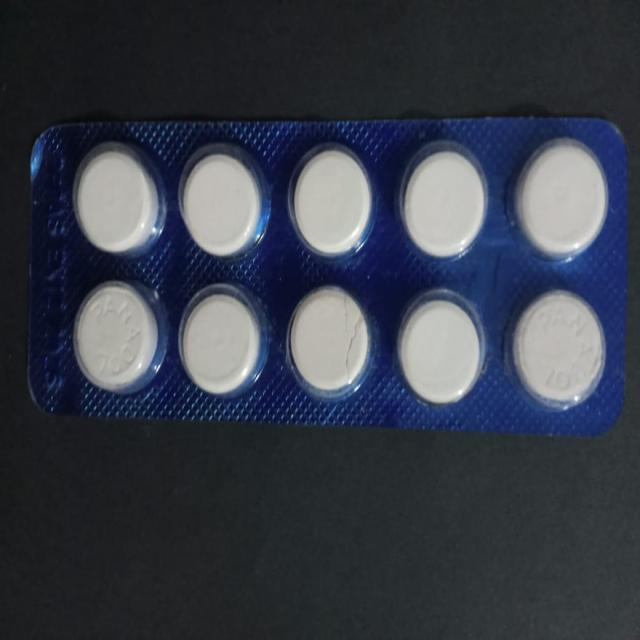defect: (286, 283, 372, 399)
